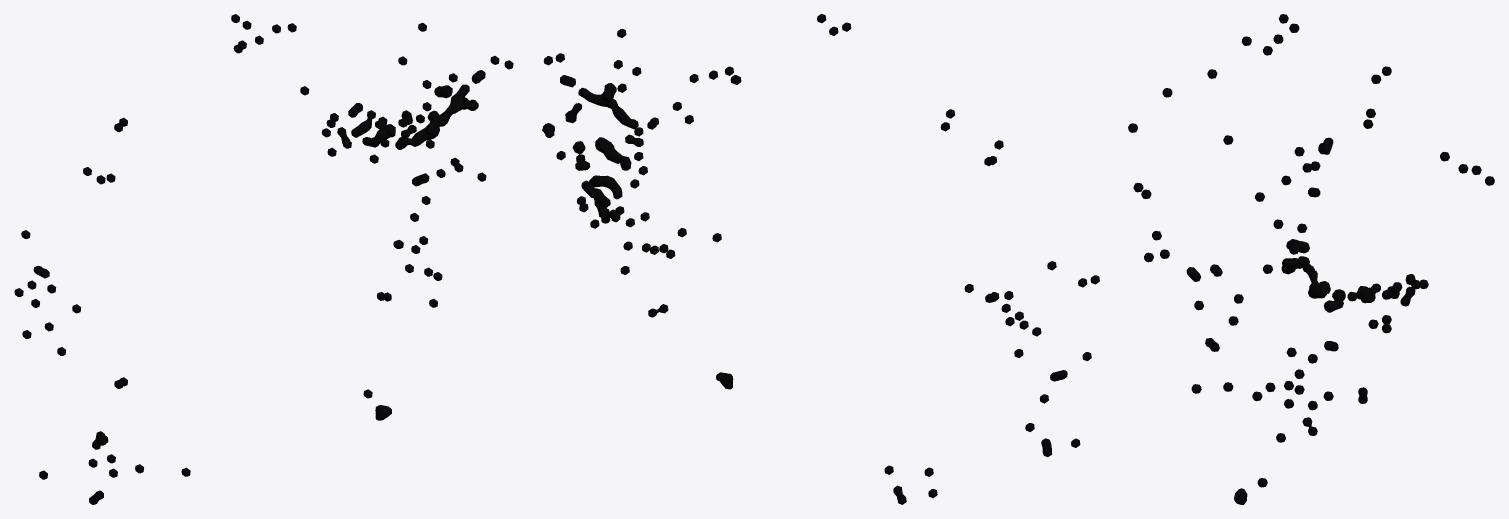
The model's file is cassiopeia_newopt.glb.
3 views of the same model, side by side, from view 1: azimuth 30°, elevation 25°; view 2: azimuth 150°, elevation 25°; view 3: azimuth 270°, elevation 25° (orthographic). The views are drawn at different scales.
Parts seen in each view (by area): view 1: Newopt.002_baked; view 2: Newopt.002_baked; view 3: Newopt.002_baked.
Part boxes in pixels (x1,y1,x2,y2): Newopt.002_baked: [14, 14, 513, 504]; Newopt.002_baked: [542, 14, 1099, 504]; Newopt.002_baked: [1128, 14, 1494, 504].
Size of the model in its own units: 130 by 99.73 by 77.6.
Materials: 1 (1 with a texture image).
